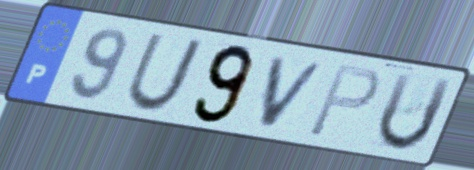9: (189, 42, 260, 127), (68, 27, 130, 102)
P: (303, 62, 385, 140)
U: (122, 31, 208, 115), (374, 70, 457, 154)
V: (256, 54, 331, 131)
